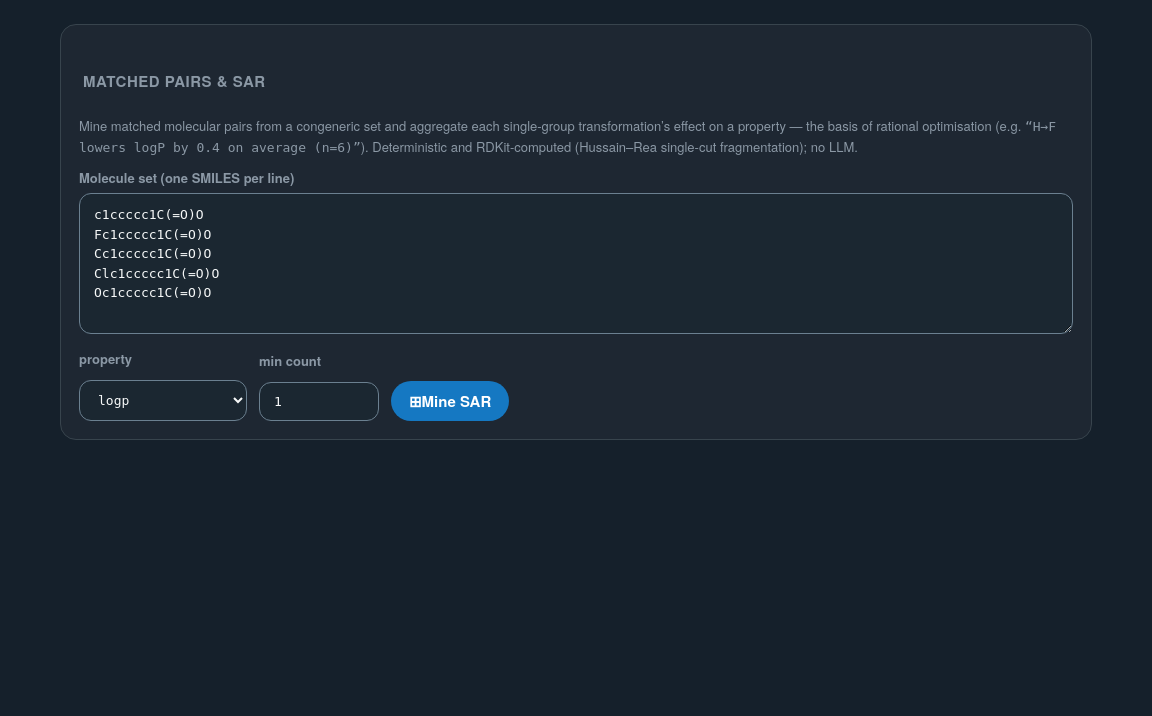
Scenario: SarScreen › mines both tools and renders the transforms and matched-pairs tables
Step 1. Click the button "⊞Mine SAR" → {"x": 450, "y": 401}, box [391,381,509,421]
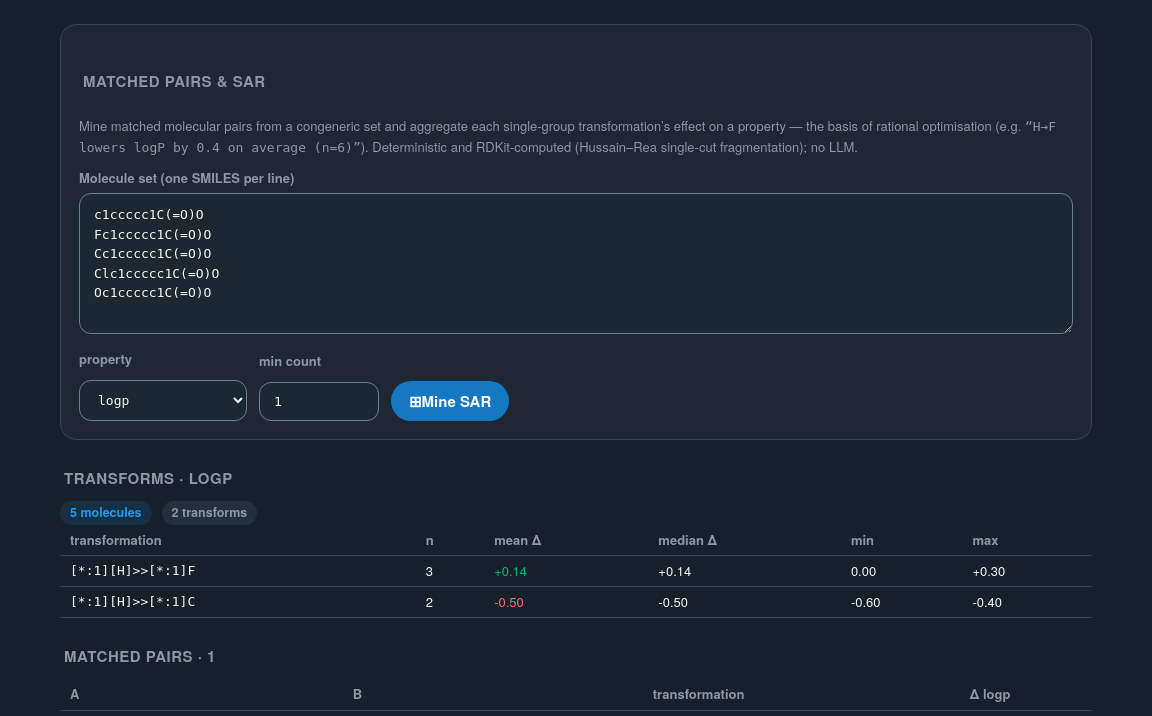
Now the text "[*:1][H]>>[*:1]C" is shown, box [60,587,416,618]
Now the 1st text "-0.50" is shown, box [484,587,648,618]
Now the 1st text "+0.14" is shown, box [484,556,648,587]
